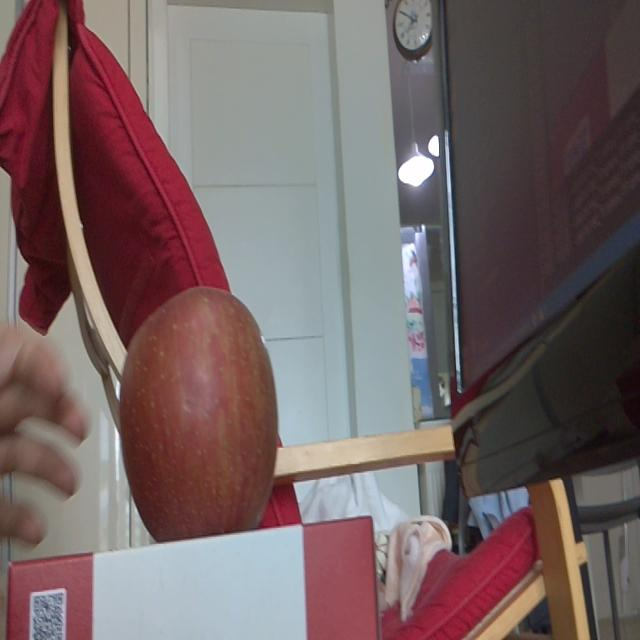apple: (120, 288, 276, 530)
